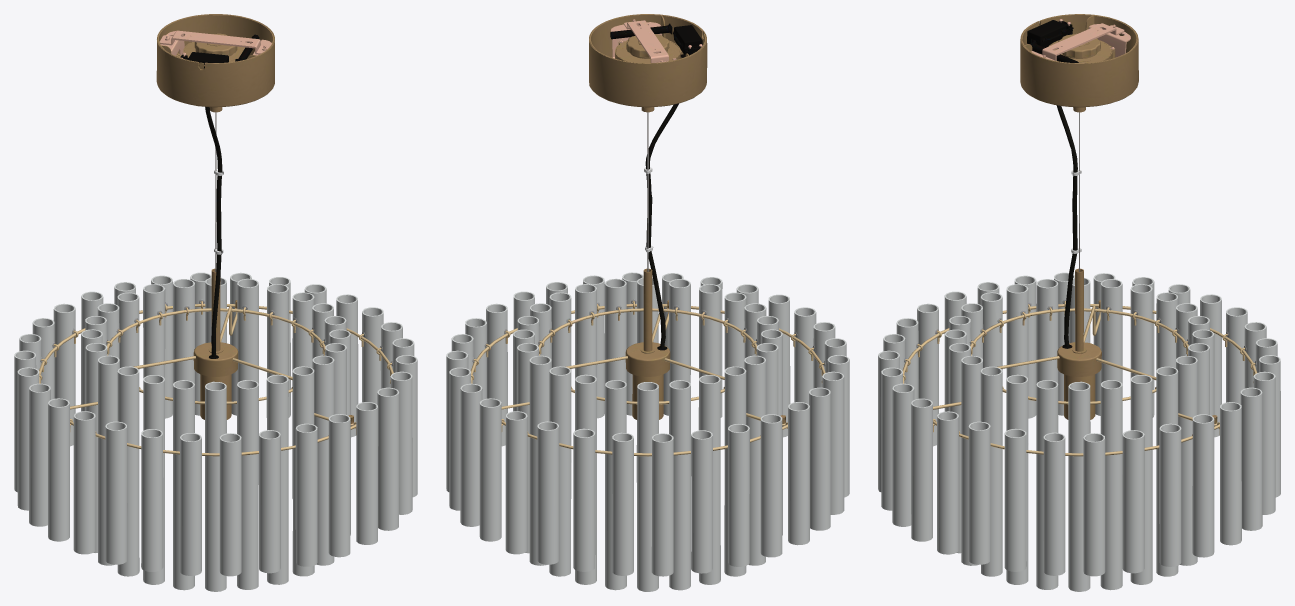
Rendered from stockholm_2025_lampa_wiszaca_90585950.glb.
The picture shows the model from 3 angles, left to right: view 1: azimuth 30°, elevation 25°; view 2: azimuth 150°, elevation 25°; view 3: azimuth 270°, elevation 25°; orthographic projection.
Parts seen in each view (by area): view 1: stockholm_2025_lampa_wiszaca_90585950; view 2: stockholm_2025_lampa_wiszaca_90585950; view 3: stockholm_2025_lampa_wiszaca_90585950.
Boxes of the visible parts, x1,y1,x2,y2 form: stockholm_2025_lampa_wiszaca_90585950: (14, 14, 417, 591); stockholm_2025_lampa_wiszaca_90585950: (446, 14, 849, 591); stockholm_2025_lampa_wiszaca_90585950: (878, 14, 1280, 591).
Bounding box in the file's own units: 0.5438 × 0.7416 × 0.5458.
2 materials, 2 textured.
